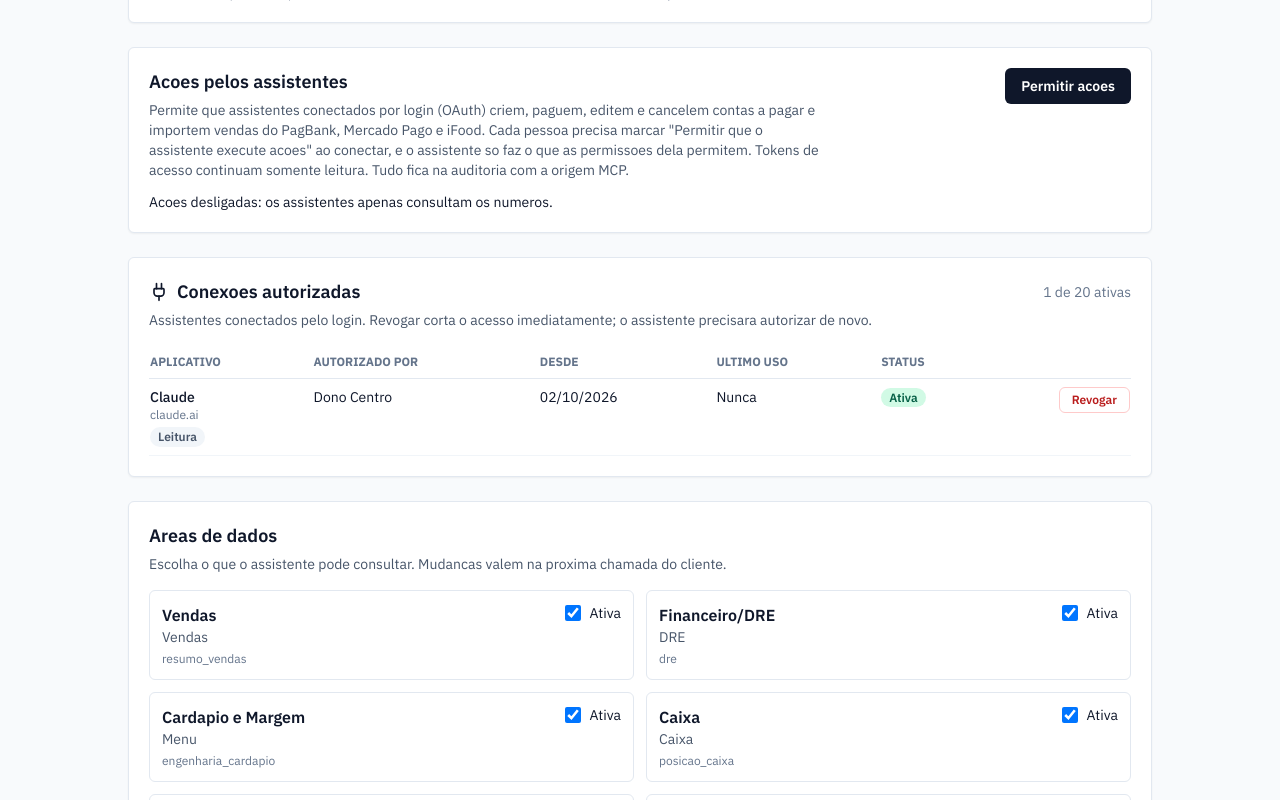
McpSettingsClient › lists authorized connections and revokes one after confirmation
The image size is (1280, 800).
(page scrolled)
Click the button "Revogar" at (1094, 400), box [1059, 387, 1130, 413]
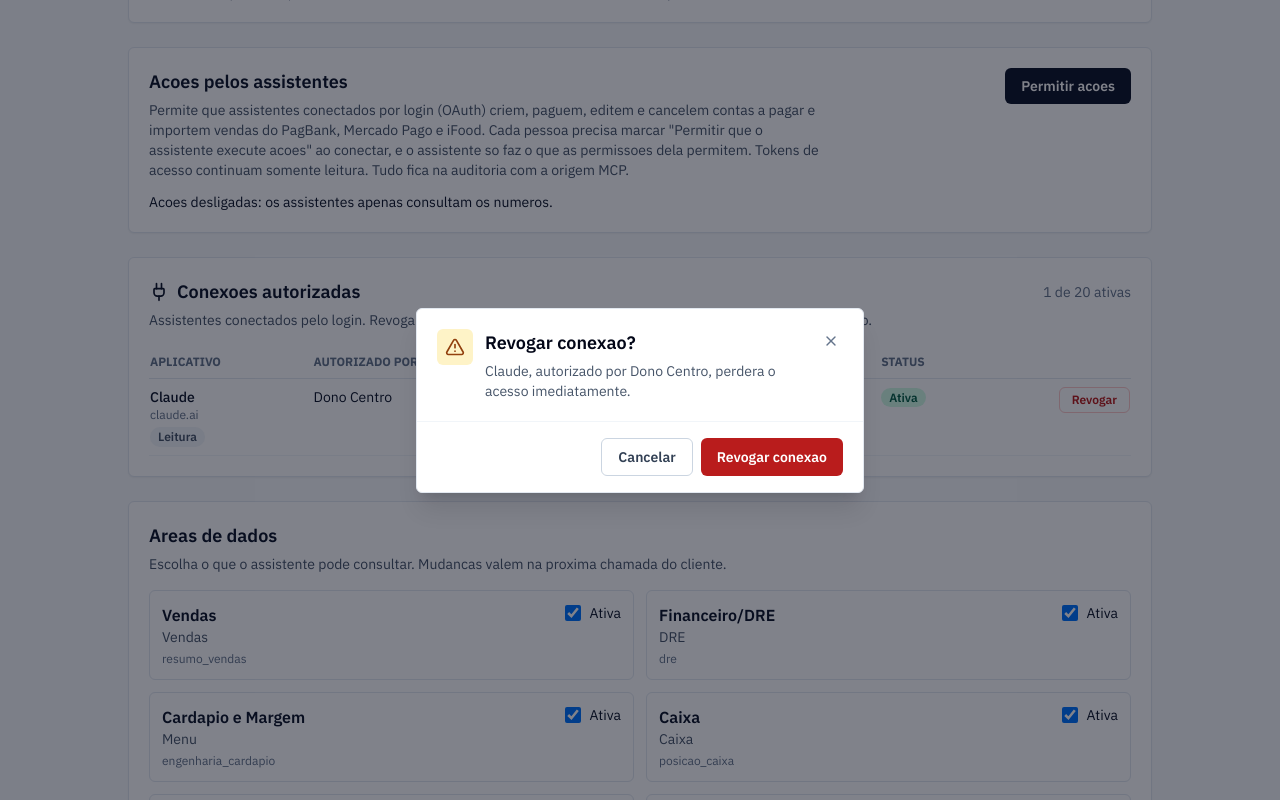
Result: the text "Revogar conexao?" is shown at [485, 330, 636, 354]
Click the button "Revogar conexao" at (772, 456), box [701, 438, 843, 476]
(page scrolled)
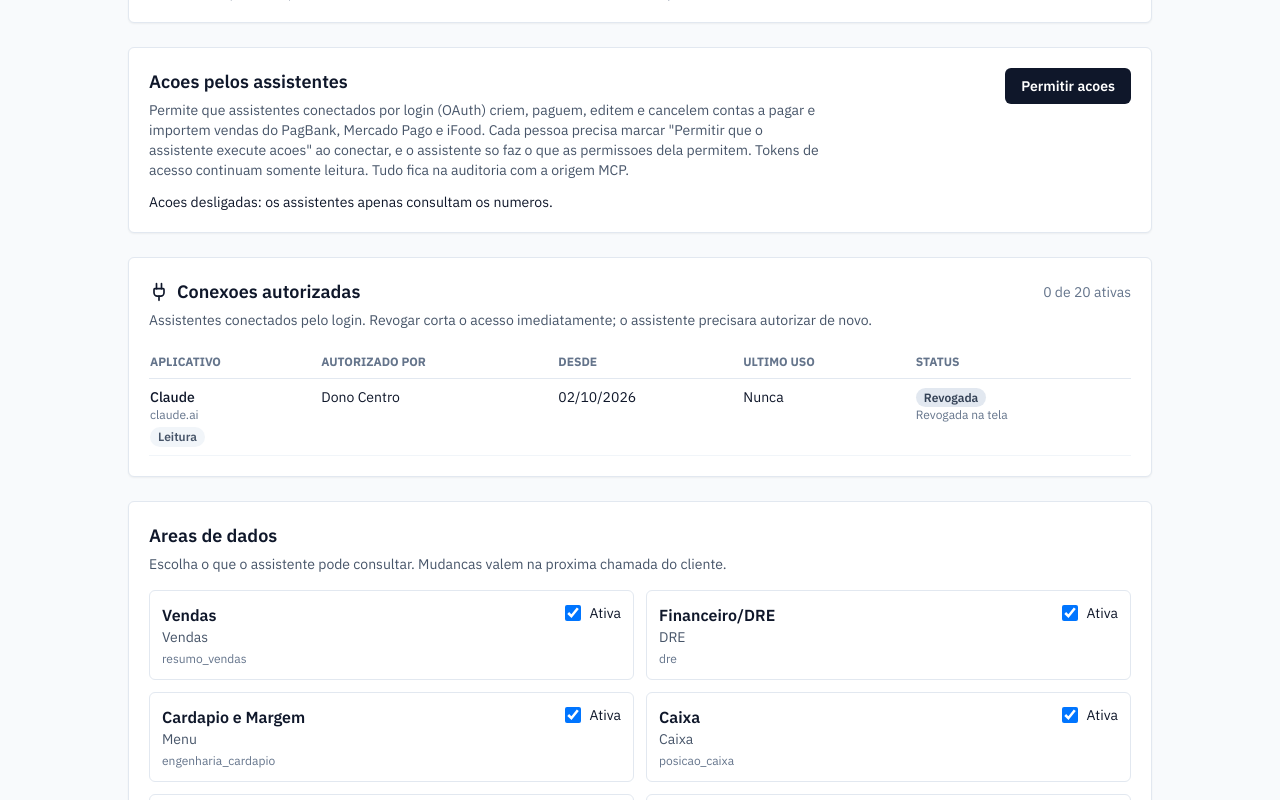
Result: the text "Revogada na tela" is shown at [916, 407, 1008, 422]
Result: the text "Revogar conexao?" is gone
